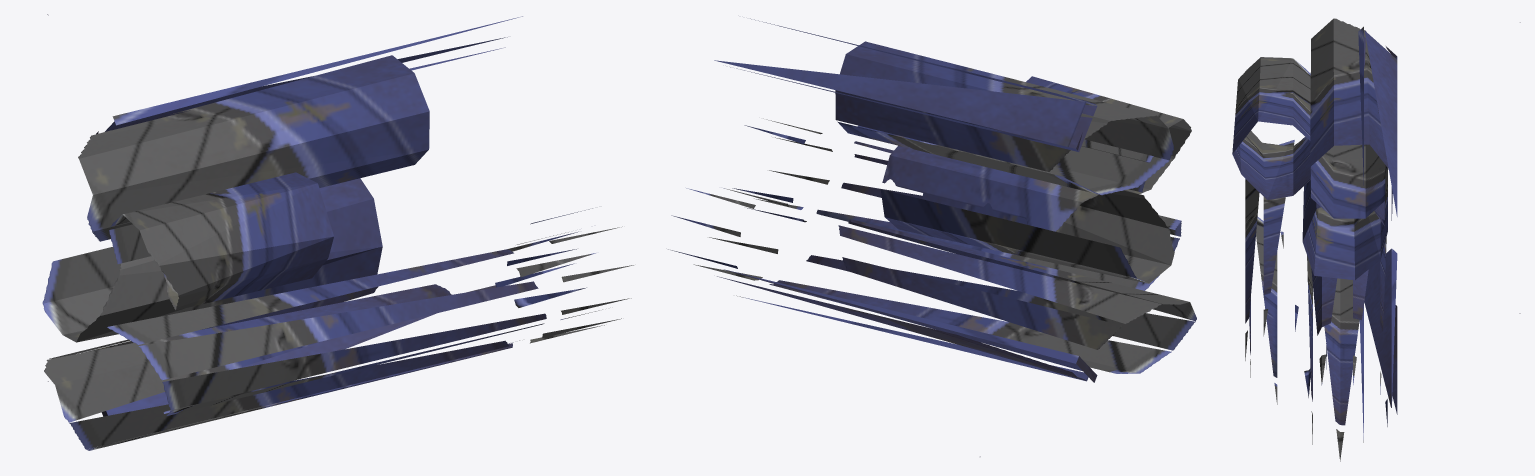
The picture shows the model from 3 angles, left to right: view 1: azimuth 30°, elevation 25°; view 2: azimuth 150°, elevation 25°; view 3: azimuth 270°, elevation 25°; orthographic projection. The views are drawn at different scales.
Size of the model in its own units: 1.66 by 1.01 by 0.9026.
